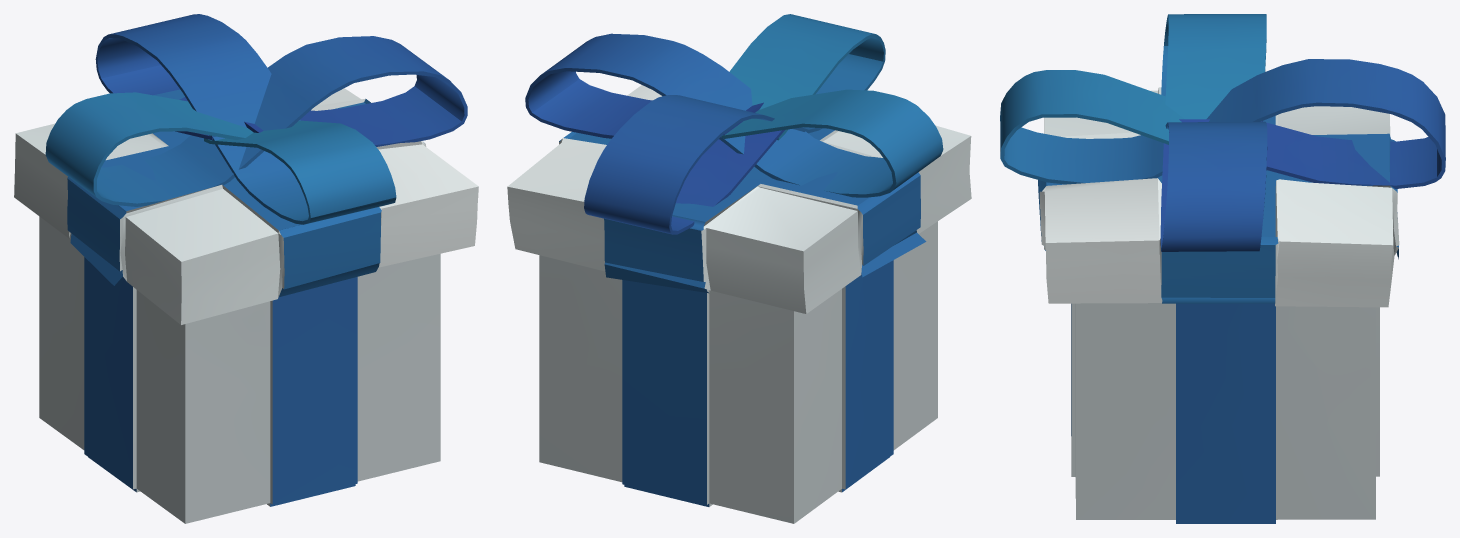
Rendered from GiftBox3.fbx.
3 views of the same model, side by side, from view 1: azimuth 30°, elevation 25°; view 2: azimuth 150°, elevation 25°; view 3: azimuth 270°, elevation 25° (orthographic). The views are drawn at different scales.
Parts seen in each view (by area): view 1: Christmas Gift; view 2: Christmas Gift; view 3: Christmas Gift.
Part boxes in pixels (x1=…): Christmas Gift: x1=14, y1=14, x2=478, y2=523; Christmas Gift: x1=507, y1=14, x2=971, y2=523; Christmas Gift: x1=1000, y1=14, x2=1445, y2=523.
Size of the model in its own units: 1306 by 1225 by 1306.
